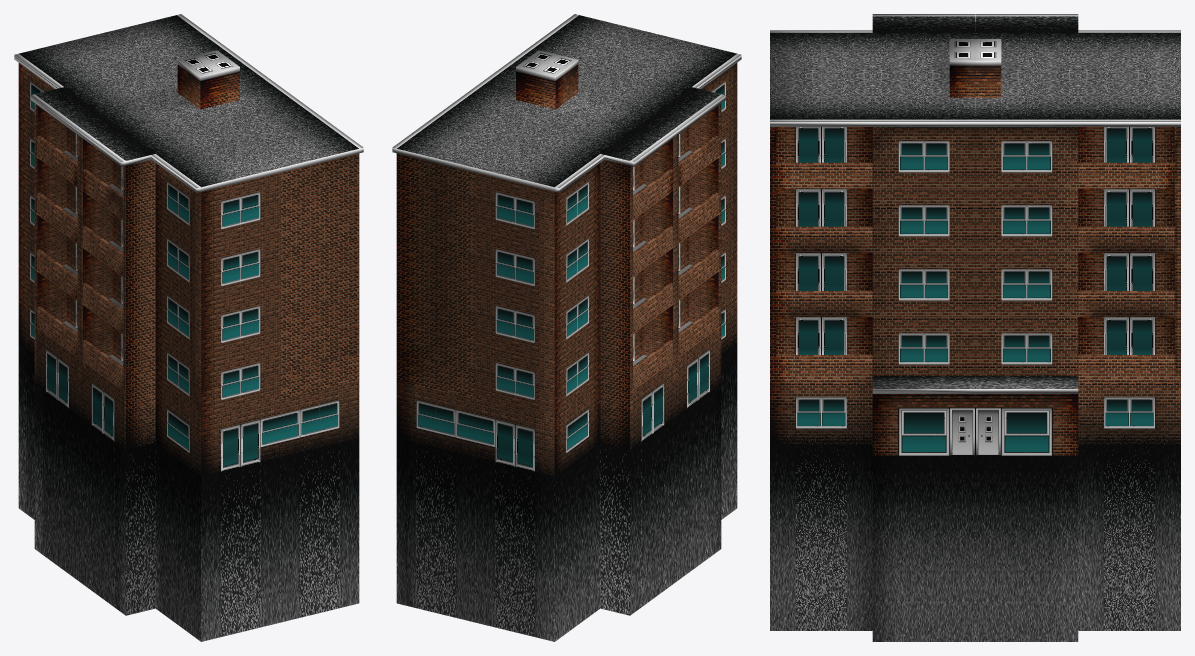
File: apartement_mod1_1a.fbx
3 renders of one model, left to right at view 1: azimuth 30°, elevation 25°; view 2: azimuth 150°, elevation 25°; view 3: azimuth 270°, elevation 25°, orthographic. The views are drawn at different scales.
Parts seen in each view (by area): view 1: apartement_mod1_1a; view 2: apartement_mod1_1a; view 3: apartement_mod1_1a.
Part boxes in pixels (x1,y1,x2,y2): apartement_mod1_1a: [14, 14, 363, 641]; apartement_mod1_1a: [392, 14, 741, 641]; apartement_mod1_1a: [770, 14, 1180, 641].
Bounding box in the file's own units: 1231 × 2652 × 1800.
